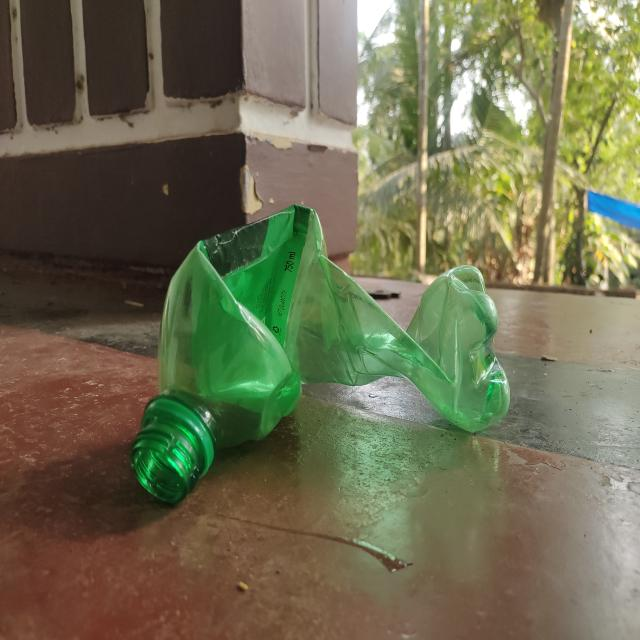plastic: (122, 196, 513, 506)
